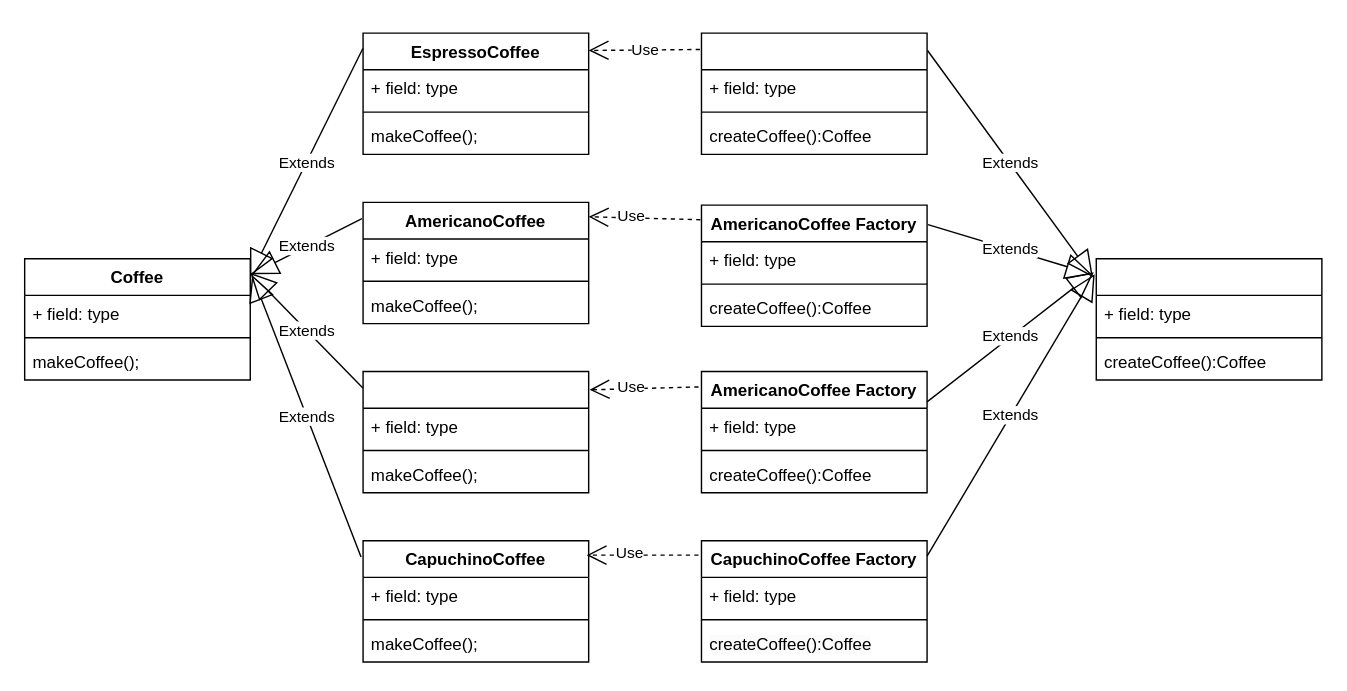
Some shapes in this 1347 by 691 pixel diagram are drawn without their labels. The box of each missing label's shape, as (x1, y1, x2, y2) in pixels:
CoffeeFactory: (1095, 257, 1322, 380)
EspressoCoffee Factory: (700, 32, 927, 154)
LatteCoffee: (362, 370, 589, 493)
